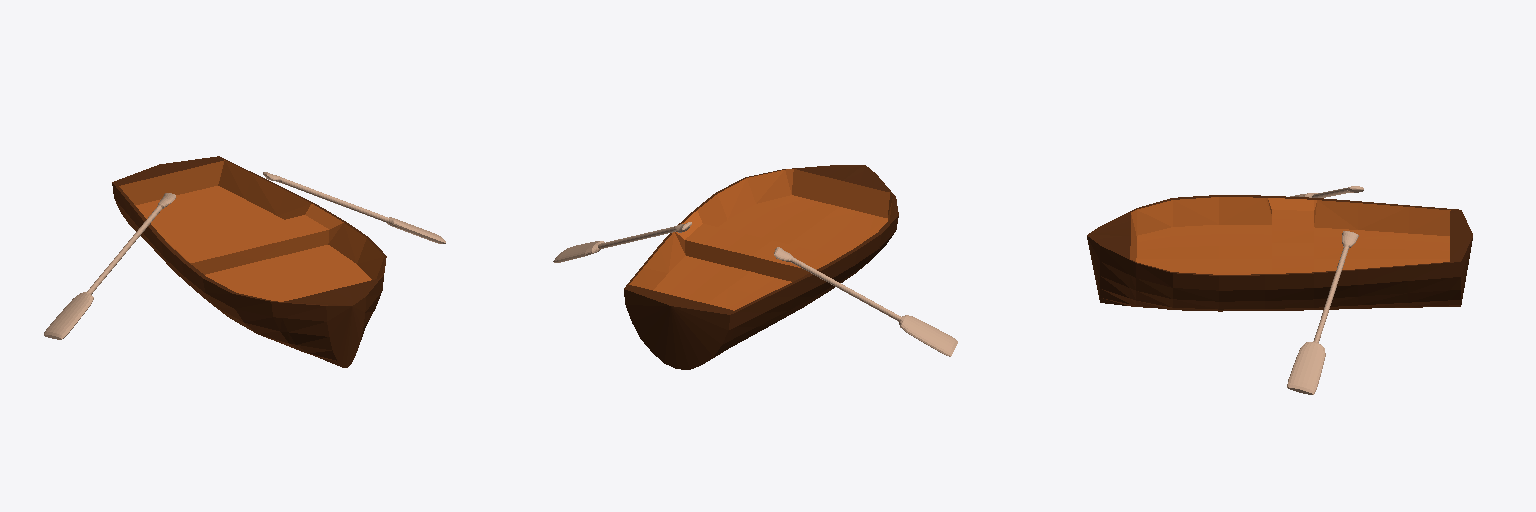
Rendered from row_boat.obj.
3 views of the same model, side by side, from view 1: azimuth 30°, elevation 25°; view 2: azimuth 150°, elevation 25°; view 3: azimuth 270°, elevation 25° (orthographic).
Parts seen in each view (by area): view 1: pCylinder4; view 2: pCylinder4; view 3: pCylinder4.
Boxes of the visible parts, x1=… form: pCylinder4: x1=44, y1=156, x2=445, y2=367; pCylinder4: x1=553, y1=165, x2=957, y2=369; pCylinder4: x1=1087, y1=186, x2=1472, y2=394.
Bounding box in the file's own units: 8.05 × 1.83 × 6.82.